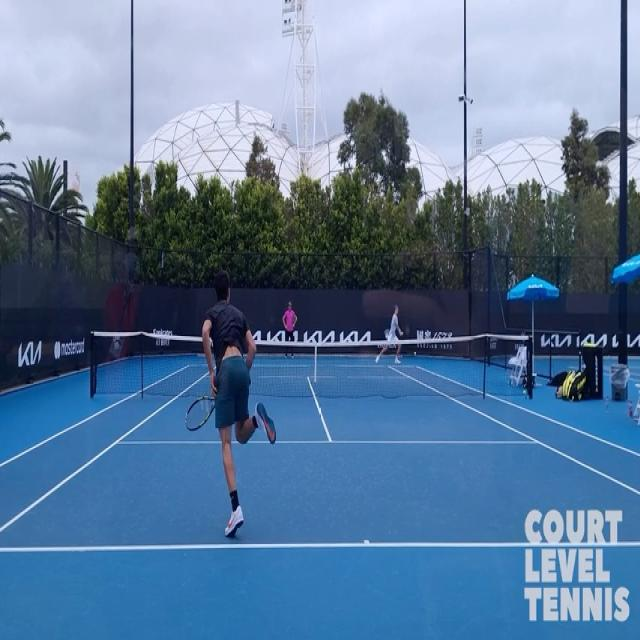serve_followthrough: (174, 234, 276, 538)
